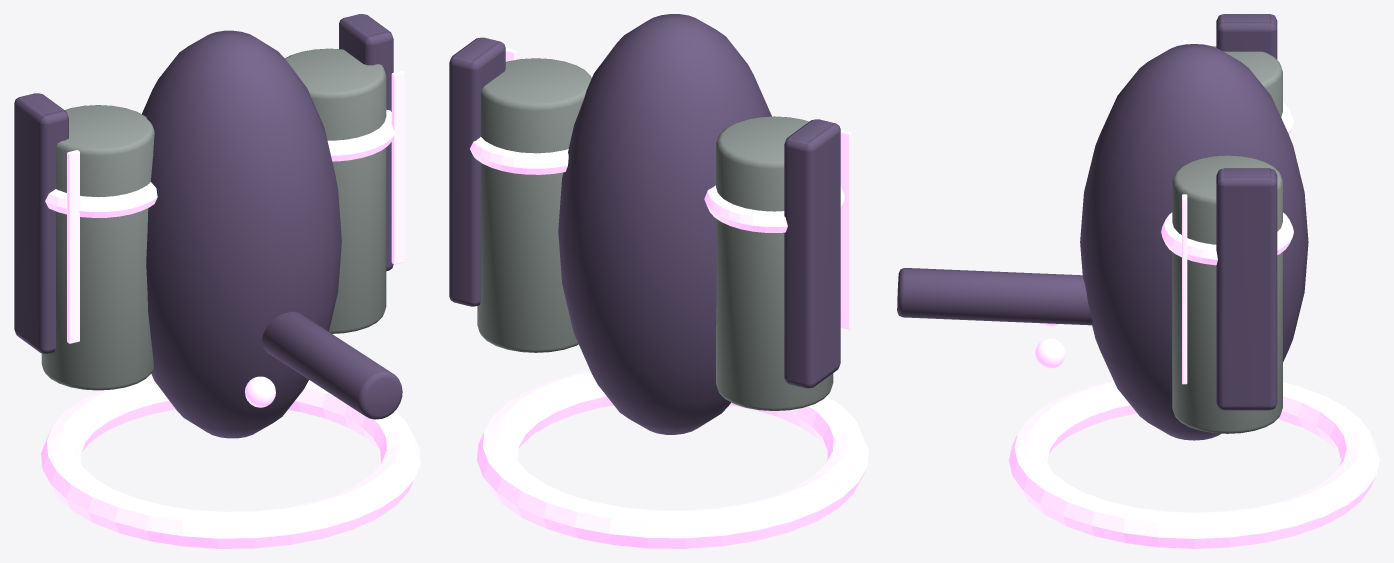
Rendered from card_p4_disruptor.glb.
The picture shows the model from 3 angles, left to right: view 1: azimuth 30°, elevation 25°; view 2: azimuth 150°, elevation 25°; view 3: azimuth 270°, elevation 25°; orthographic projection. The views are drawn at different scales.
Visible parts, largest first — view 1: card_p4_disruptor; view 2: card_p4_disruptor; view 3: card_p4_disruptor.
Boxes of the visible parts, x1,y1,x2,y2 form: card_p4_disruptor: [14, 14, 420, 548]; card_p4_disruptor: [449, 14, 868, 548]; card_p4_disruptor: [897, 14, 1379, 548].
Size of the model in its own units: 1.44 by 1.71 by 1.74.
